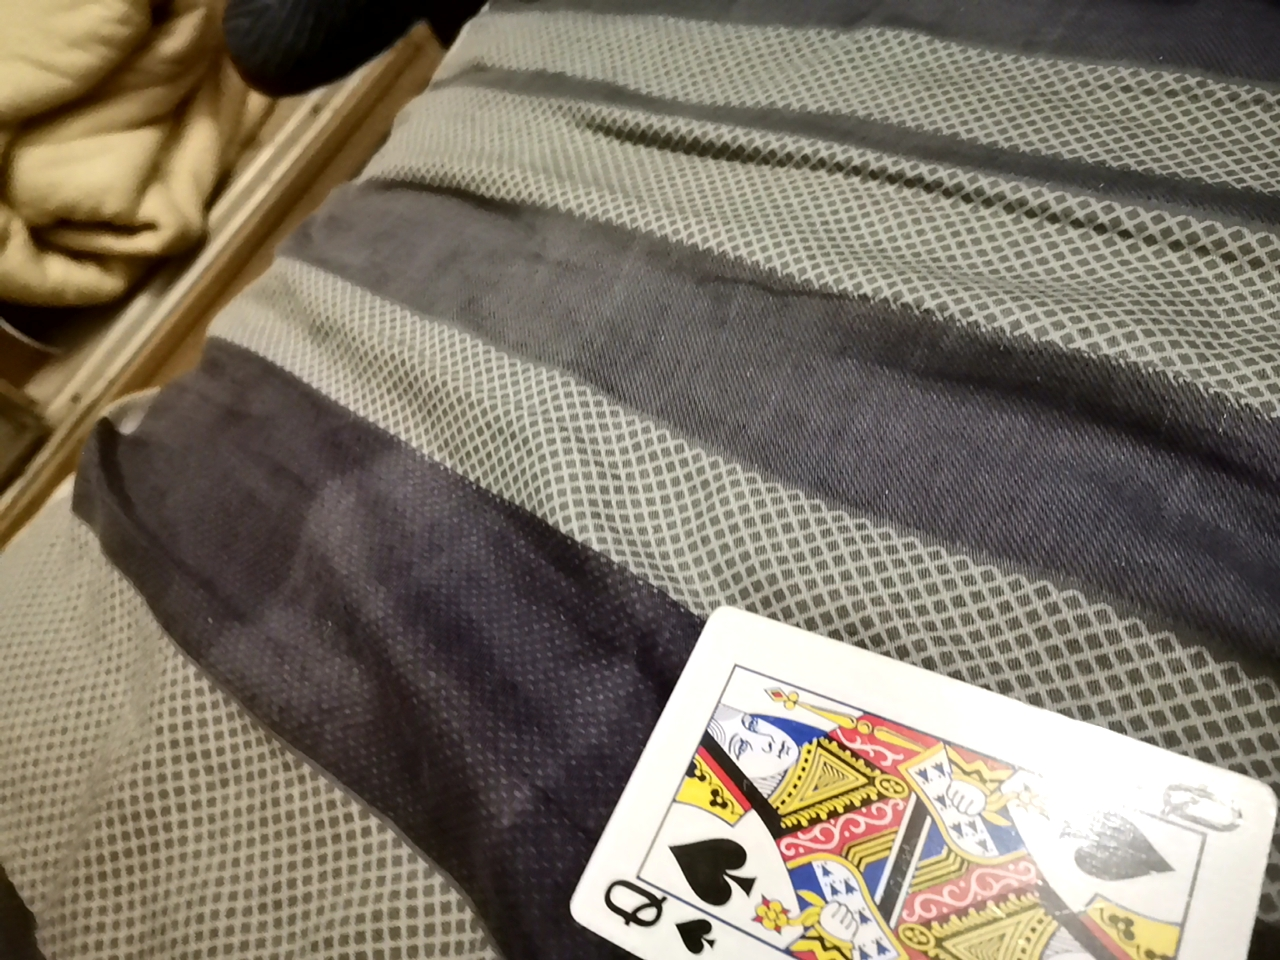ht q: (540, 602, 1265, 953)
